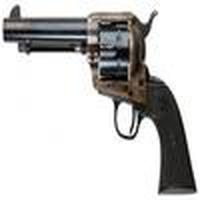gun: (2, 5, 197, 194)
